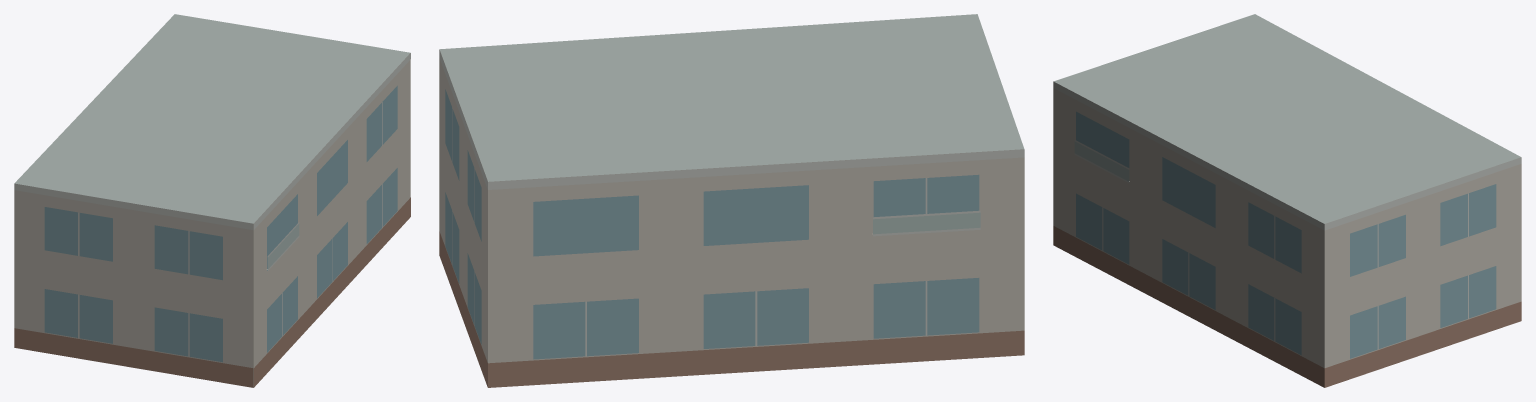
Rendered from survey-upis-32606070.glb.
3 views of the same model, side by side, from view 1: azimuth 30°, elevation 25°; view 2: azimuth 150°, elevation 25°; view 3: azimuth 270°, elevation 25° (orthographic). The views are drawn at different scales.
Visible parts, largest first — view 1: survey-upis-32606070.tmp; view 2: survey-upis-32606070.tmp; view 3: survey-upis-32606070.tmp.
Part boxes in pixels (x1,y1,x2,y2): survey-upis-32606070.tmp: [14, 14, 410, 387]; survey-upis-32606070.tmp: [439, 14, 1024, 387]; survey-upis-32606070.tmp: [1053, 14, 1521, 387].
Bounding box in the file's own units: 16.78 × 6.1 × 15.8.
